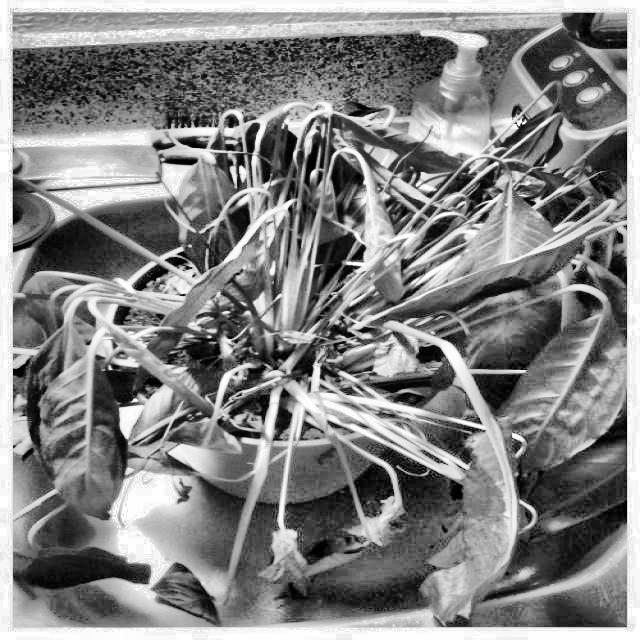plants: (34, 152, 638, 628)
